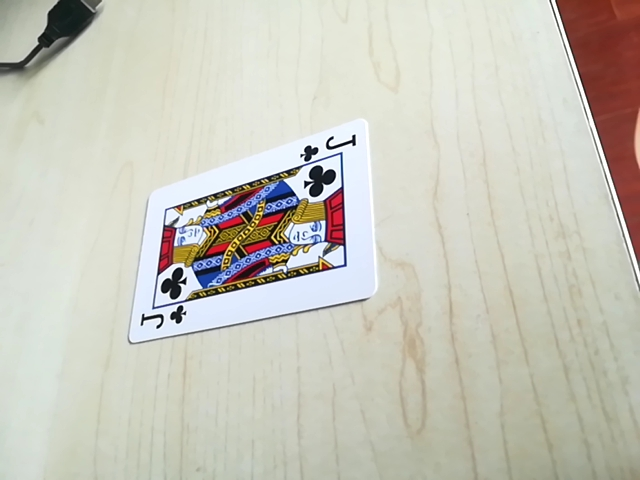mh j: (135, 302, 190, 337), (300, 130, 360, 161)
